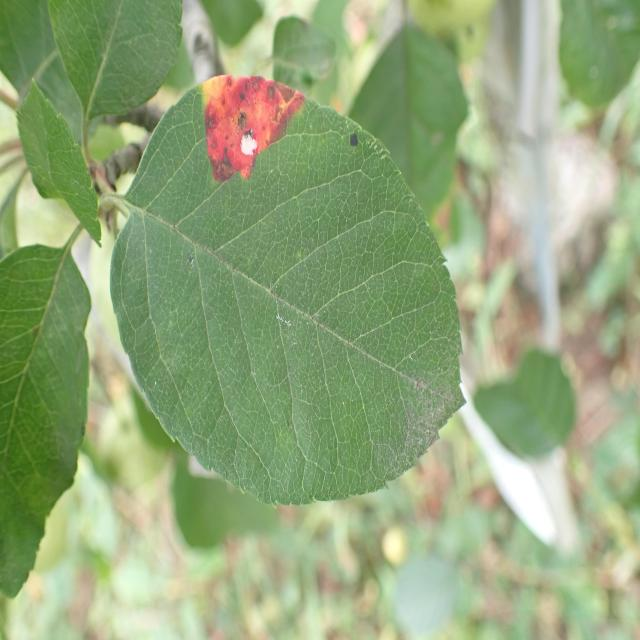Rust: (197, 58, 305, 186)
